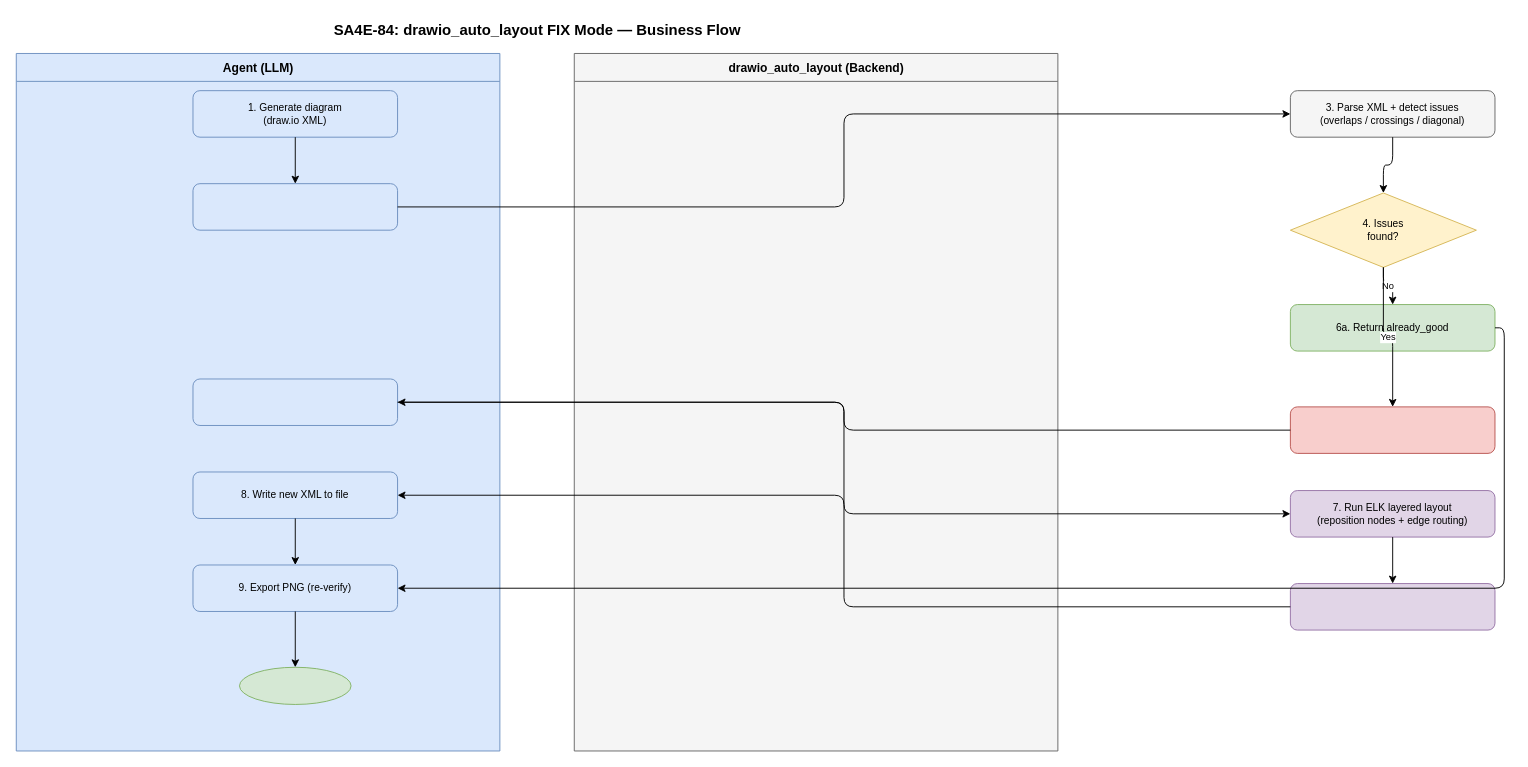
The diagram is 1528 pixels wide and 767 high, and some of its shapes have lost their labels. Here are the shapes that lost their labels. From the top down, the centre of each, then its label:
At pixel 295 206: "2. Call drawio_auto_layout mode=review".
At pixel 295 401: "5. Call drawio_auto_layout mode=apply (ELK)".
At pixel 1392 429: "6b. Return issues + fix_hint".
At pixel 1392 606: "8. Return content_base64 (fixed XML) + repositioned nodes".
At pixel 295 685: "Done".
